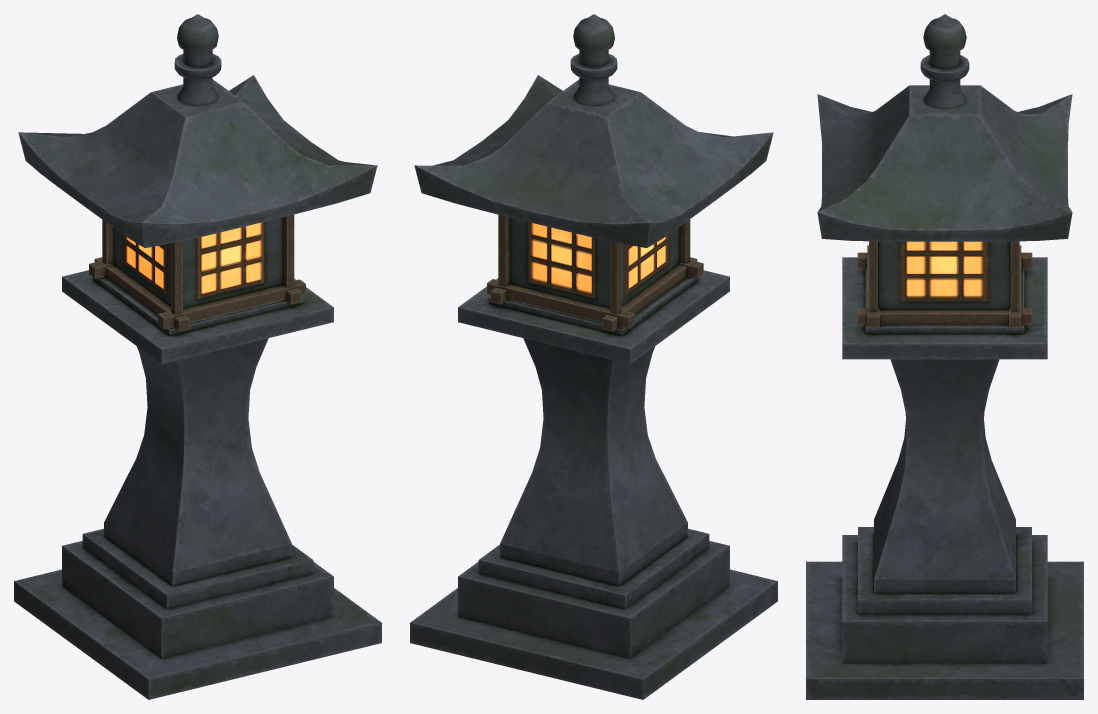
File: NNJ0310007.fbx
3 renders of one model, left to right at view 1: azimuth 30°, elevation 25°; view 2: azimuth 150°, elevation 25°; view 3: azimuth 270°, elevation 25°, orthographic. The views are drawn at different scales.
Visible parts, largest first — view 1: smNNJ0310007; view 2: smNNJ0310007; view 3: smNNJ0310007.
Part boxes in pixels (box(x1,y1,x2,y2)): smNNJ0310007: box(14, 14, 381, 699); smNNJ0310007: box(410, 14, 777, 699); smNNJ0310007: box(806, 14, 1083, 699).
Bounding box in the file's own units: 141 × 348 × 140.
Materials: 1 (1 with a texture image).
